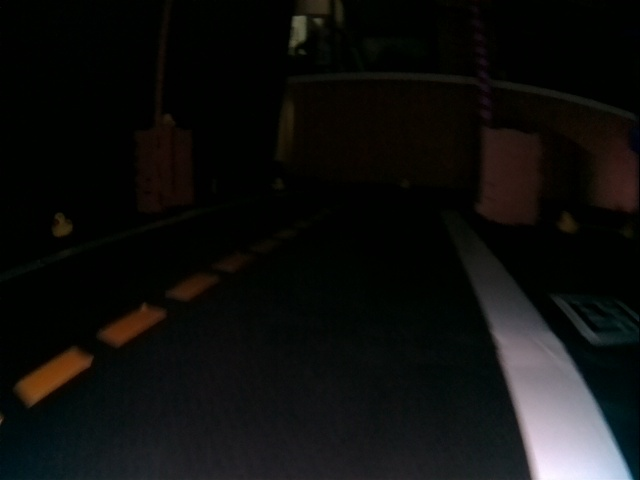Duckie: (555, 209, 582, 234), (50, 211, 74, 238)
QR code: (555, 291, 638, 344)
